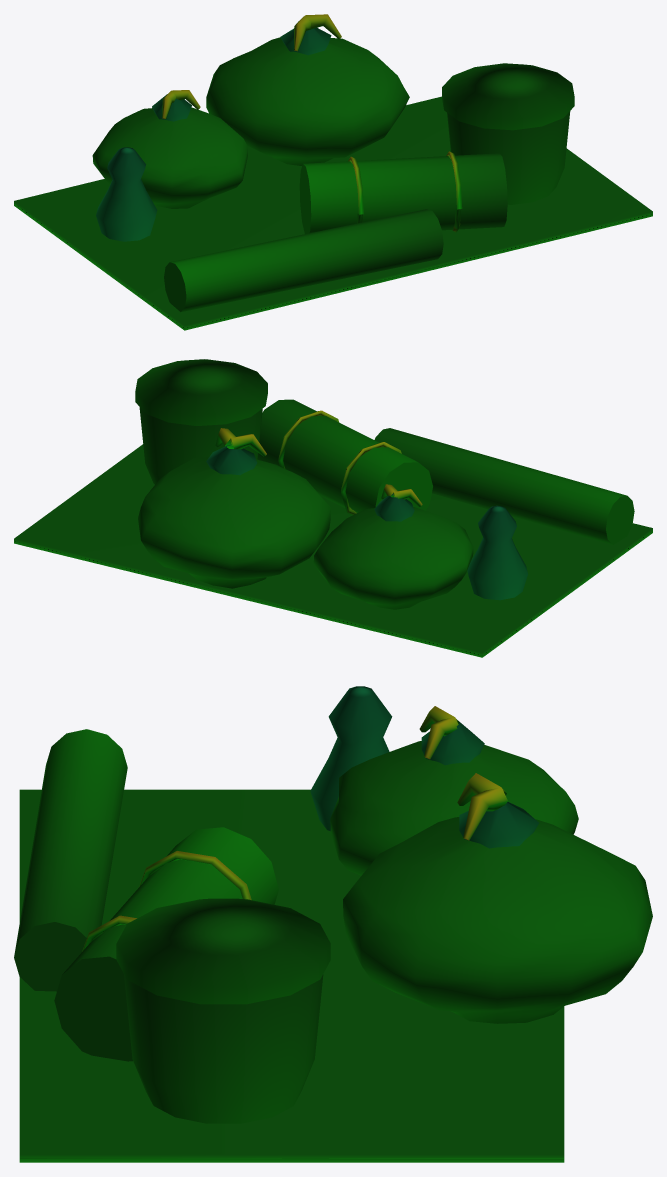
Rendered from passenger_bundles.glb.
3 renders of one model, top to bottom at view 1: azimuth 30°, elevation 25°; view 2: azimuth 150°, elevation 25°; view 3: azimuth 270°, elevation 25°, orthographic. The views are drawn at different scales.
Visible parts, largest first — view 1: passenger_bundles; view 2: passenger_bundles; view 3: passenger_bundles.
Boxes of the visible parts, x1,y1,x2,y2 form: passenger_bundles: (14, 14, 652, 330); passenger_bundles: (14, 359, 652, 657); passenger_bundles: (14, 686, 652, 1162).
Size of what is drawn, in the model's own units: 1.89 by 0.5451 by 1.4.
